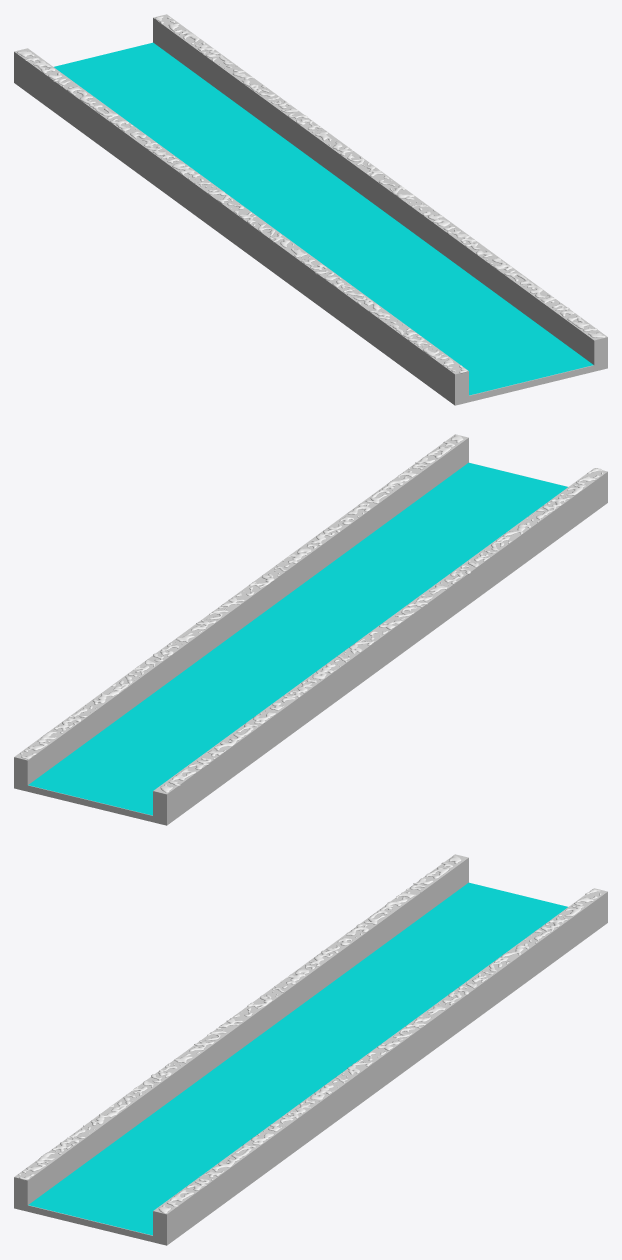
File: Map000.fbx
The picture shows the model from 3 angles, top to bottom: view 1: azimuth 30°, elevation 25°; view 2: azimuth 150°, elevation 25°; view 3: azimuth 330°, elevation 25°; orthographic projection.
Visible parts, largest first — view 1: Plane.001, Cube.001, SnowBall.003, SnowBall.002; view 2: Plane.001, Cube.001, SnowBall.002, SnowBall.003; view 3: Plane.001, Cube.001, SnowBall.002, SnowBall.003.
Boxes of the visible parts, x1=… form: Plane.001: x1=54, y1=42, x2=593, y2=395; Cube.001: x1=14, y1=14, x2=607, y2=405; SnowBall.003: x1=17, y1=51, x2=467, y2=373; SnowBall.002: x1=155, y1=16, x2=605, y2=337; Plane.001: x1=28, y1=462, x2=567, y2=815; Cube.001: x1=14, y1=434, x2=607, y2=825; SnowBall.002: x1=20, y1=434, x2=463, y2=759; SnowBall.003: x1=160, y1=468, x2=603, y2=792; Plane.001: x1=28, y1=882, x2=567, y2=1235; Cube.001: x1=14, y1=854, x2=607, y2=1245; SnowBall.002: x1=158, y1=889, x2=601, y2=1213; SnowBall.003: x1=18, y1=855, x2=461, y2=1180.
Size of the model in its own units: 244 by 49.15 by 1204.
